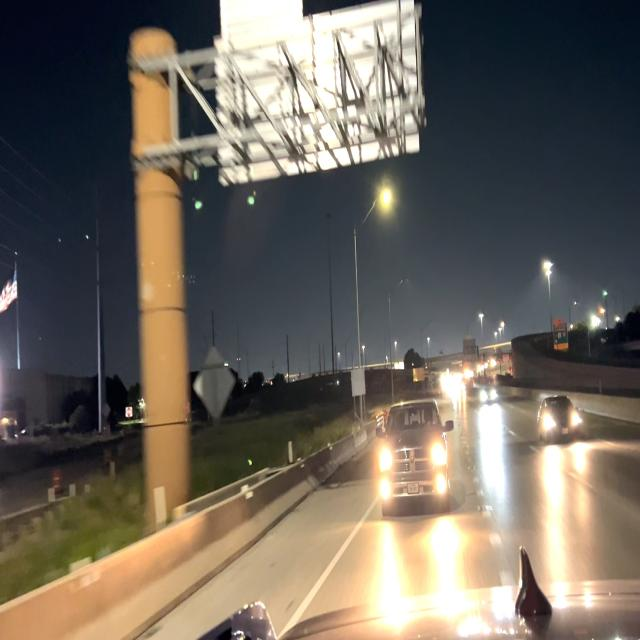back-of-sign: (215, 0, 420, 185), (194, 349, 236, 422)
